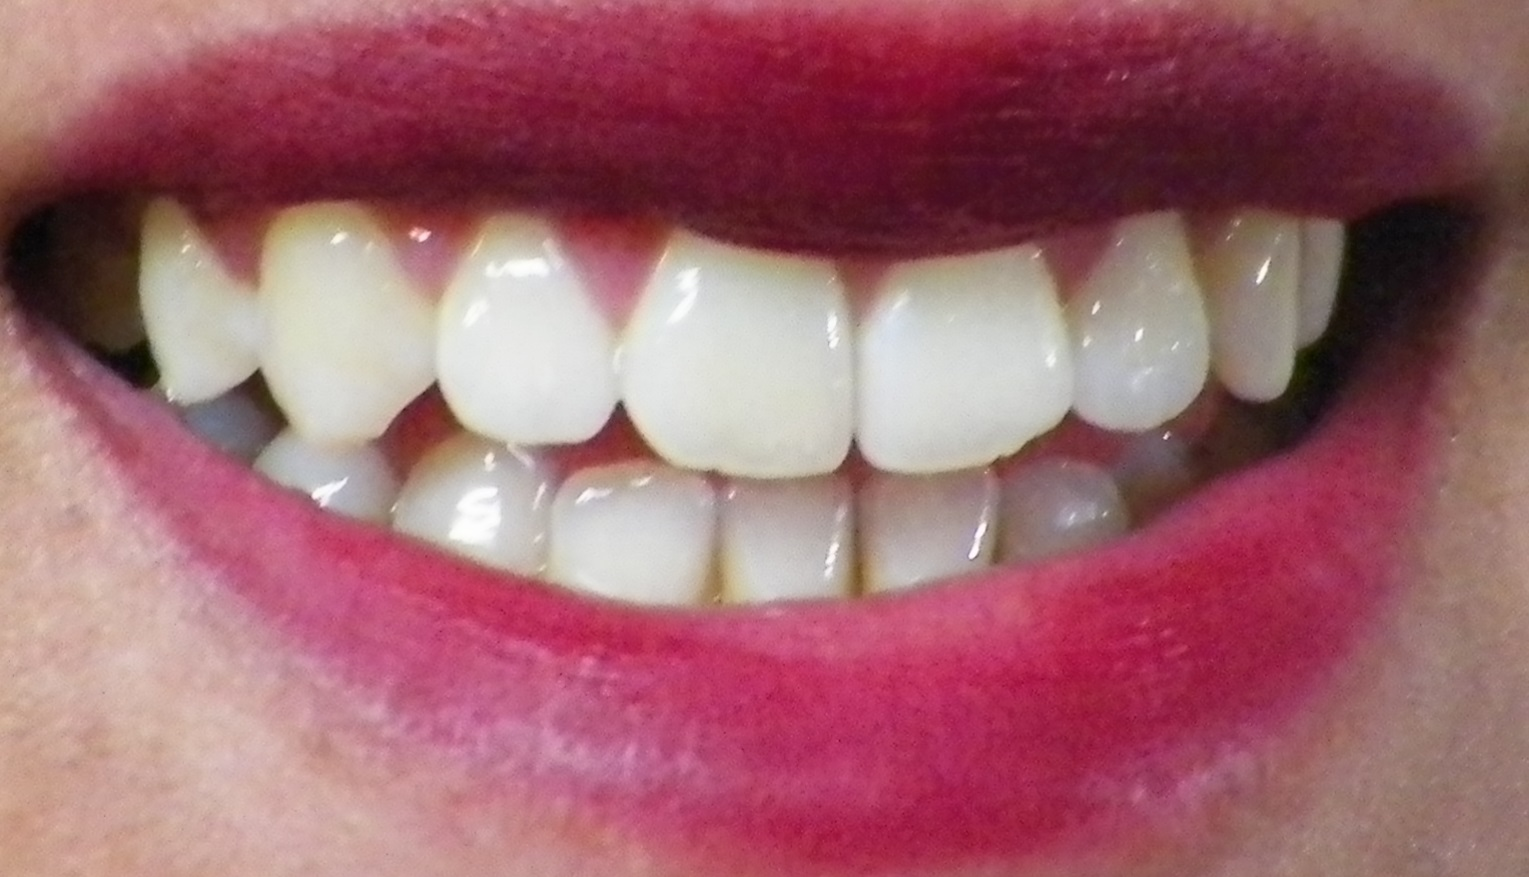boca: (56, 207, 1373, 614)
